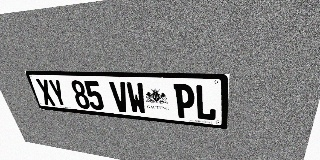5: (83, 80, 105, 111)
8: (69, 80, 91, 109)
L: (195, 84, 217, 121)
P: (173, 84, 195, 119)
V: (109, 81, 131, 113)
W: (125, 82, 147, 115)
X: (35, 79, 56, 106)
Y: (47, 79, 69, 107)
